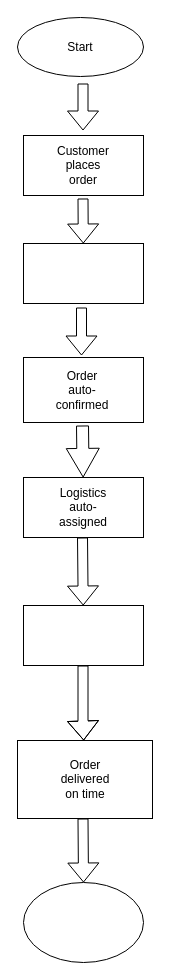
This 170x980 diagram has some shape labels left out. The shapes that lost their labels are listed below. From the top down, each one's centre as x and y in pixels, then its label:
the point at 83,273: System automatically checks inventory
the point at 83,635: Real-time tracking enabled
the point at 83,922: End
